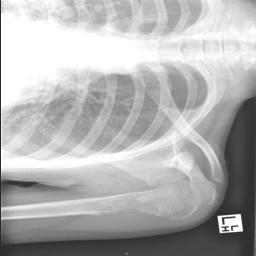cancer: (0, 188, 167, 221)
